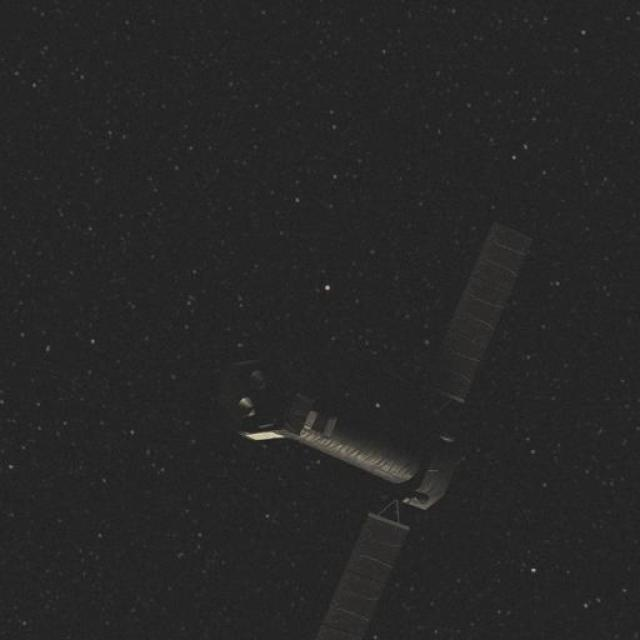xmm_newton: (282, 230, 489, 640)
